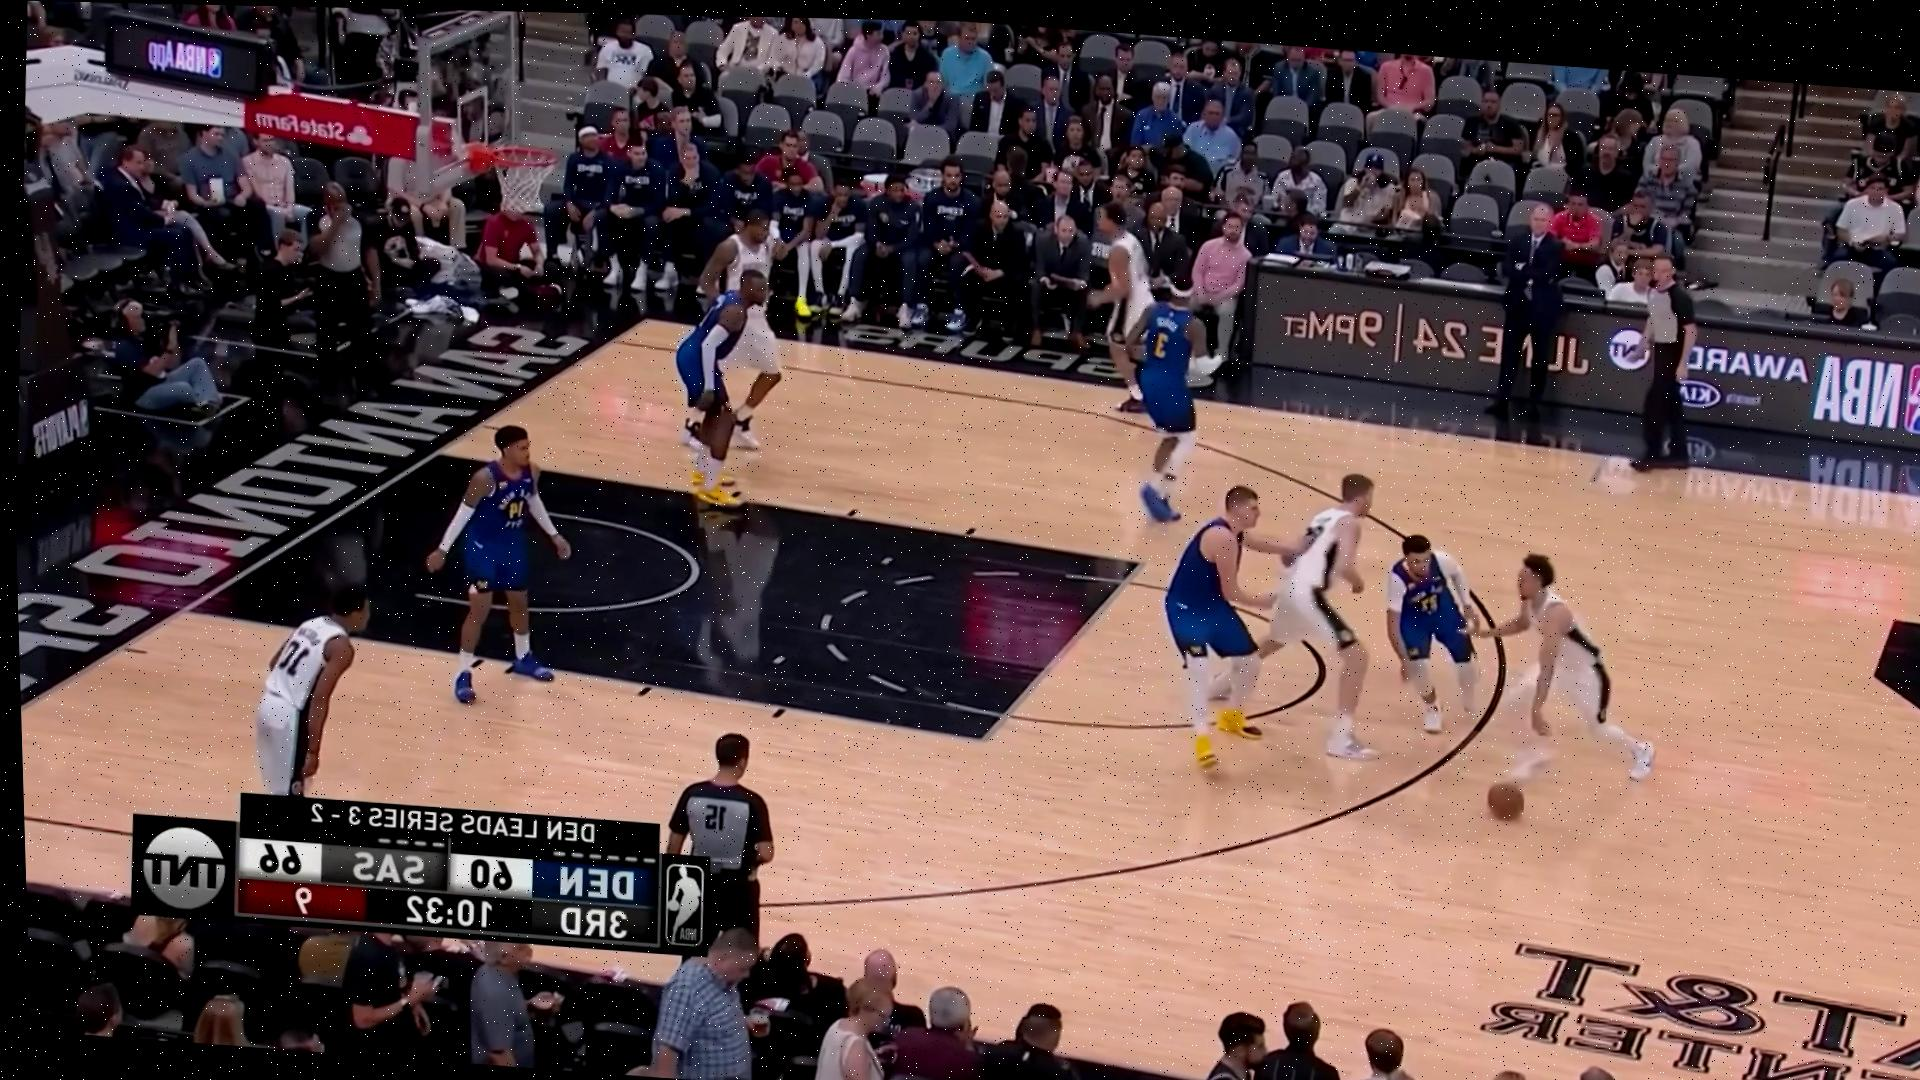foul: (1142, 452, 1418, 789)
